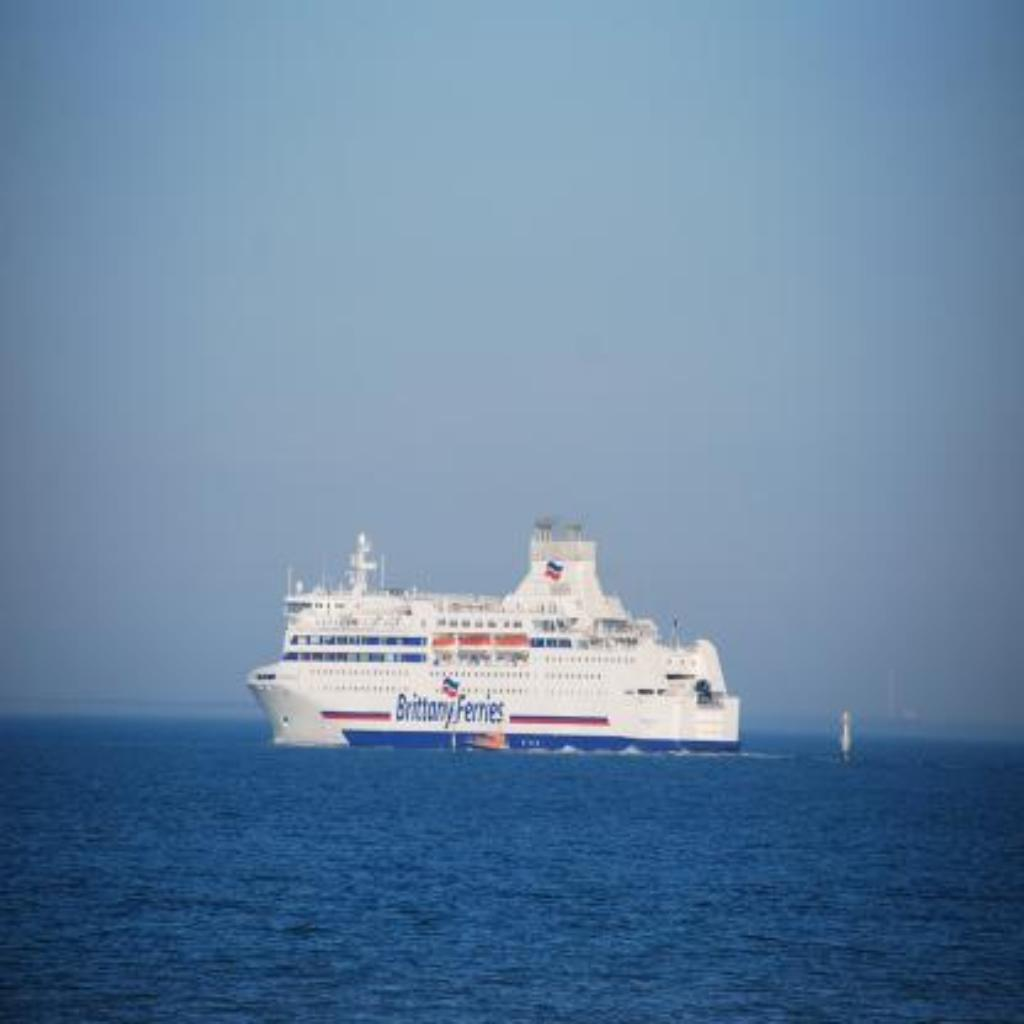PassengerShip: (246, 530, 744, 758)
